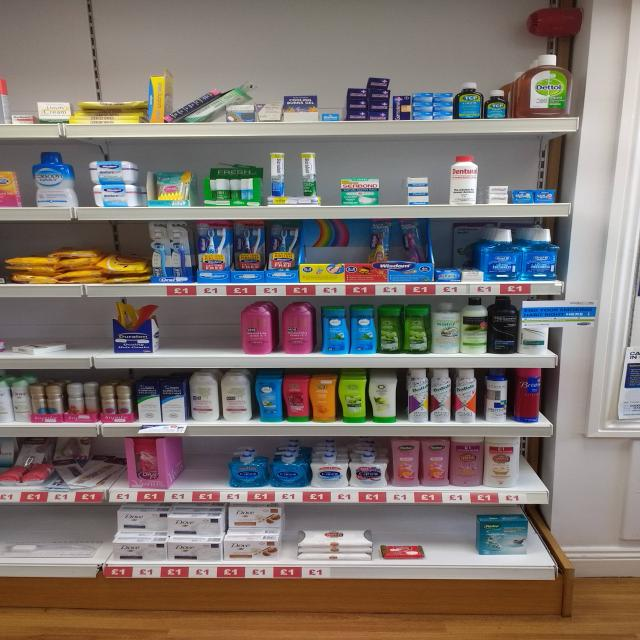void: (50, 508, 105, 576), (427, 508, 474, 579), (66, 299, 110, 369), (0, 512, 48, 574), (164, 296, 198, 369), (27, 298, 62, 368), (202, 297, 234, 367), (170, 436, 202, 501), (200, 437, 232, 501), (1, 297, 28, 368)
